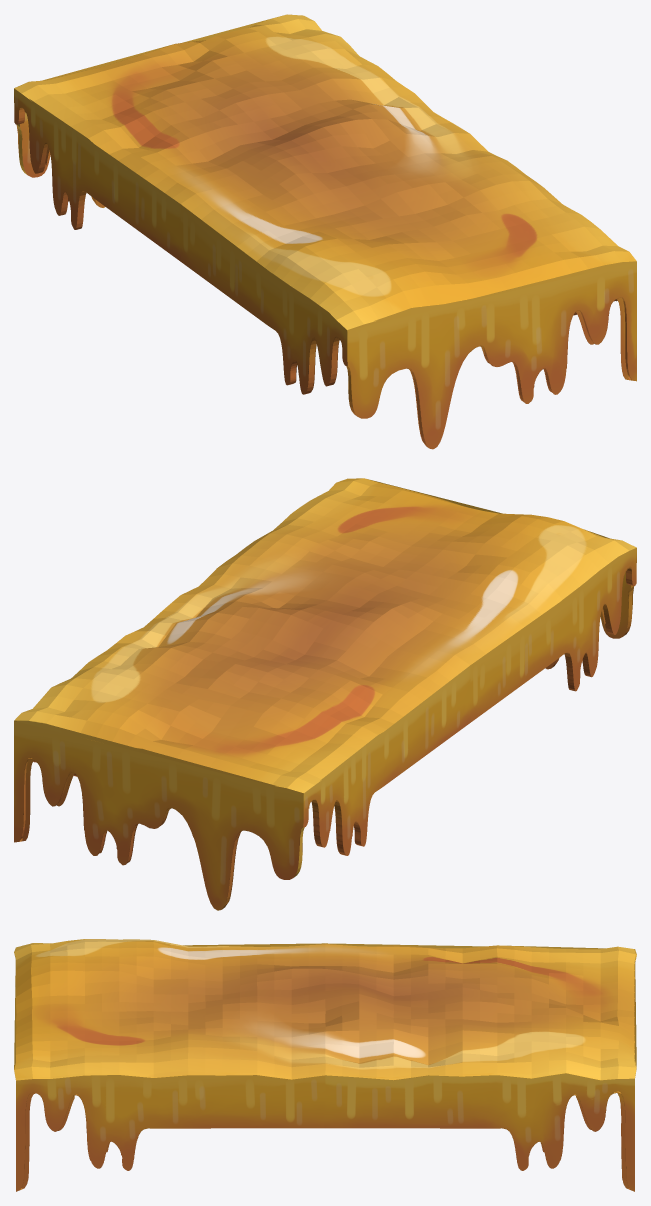
File: SapFinal.fbx
3 views of the same model, one above another, from view 1: azimuth 30°, elevation 25°; view 2: azimuth 150°, elevation 25°; view 3: azimuth 270°, elevation 25° (orthographic). The views are drawn at different scales.
Visible parts, largest first — view 1: Sap; view 2: Sap; view 3: Sap.
Boxes of the visible parts, box(x1,y1,x2,y2) form: Sap: box(14, 14, 636, 449); Sap: box(14, 478, 636, 910); Sap: box(14, 939, 636, 1191).
Size of the model in its own units: 213 by 117 by 423.
